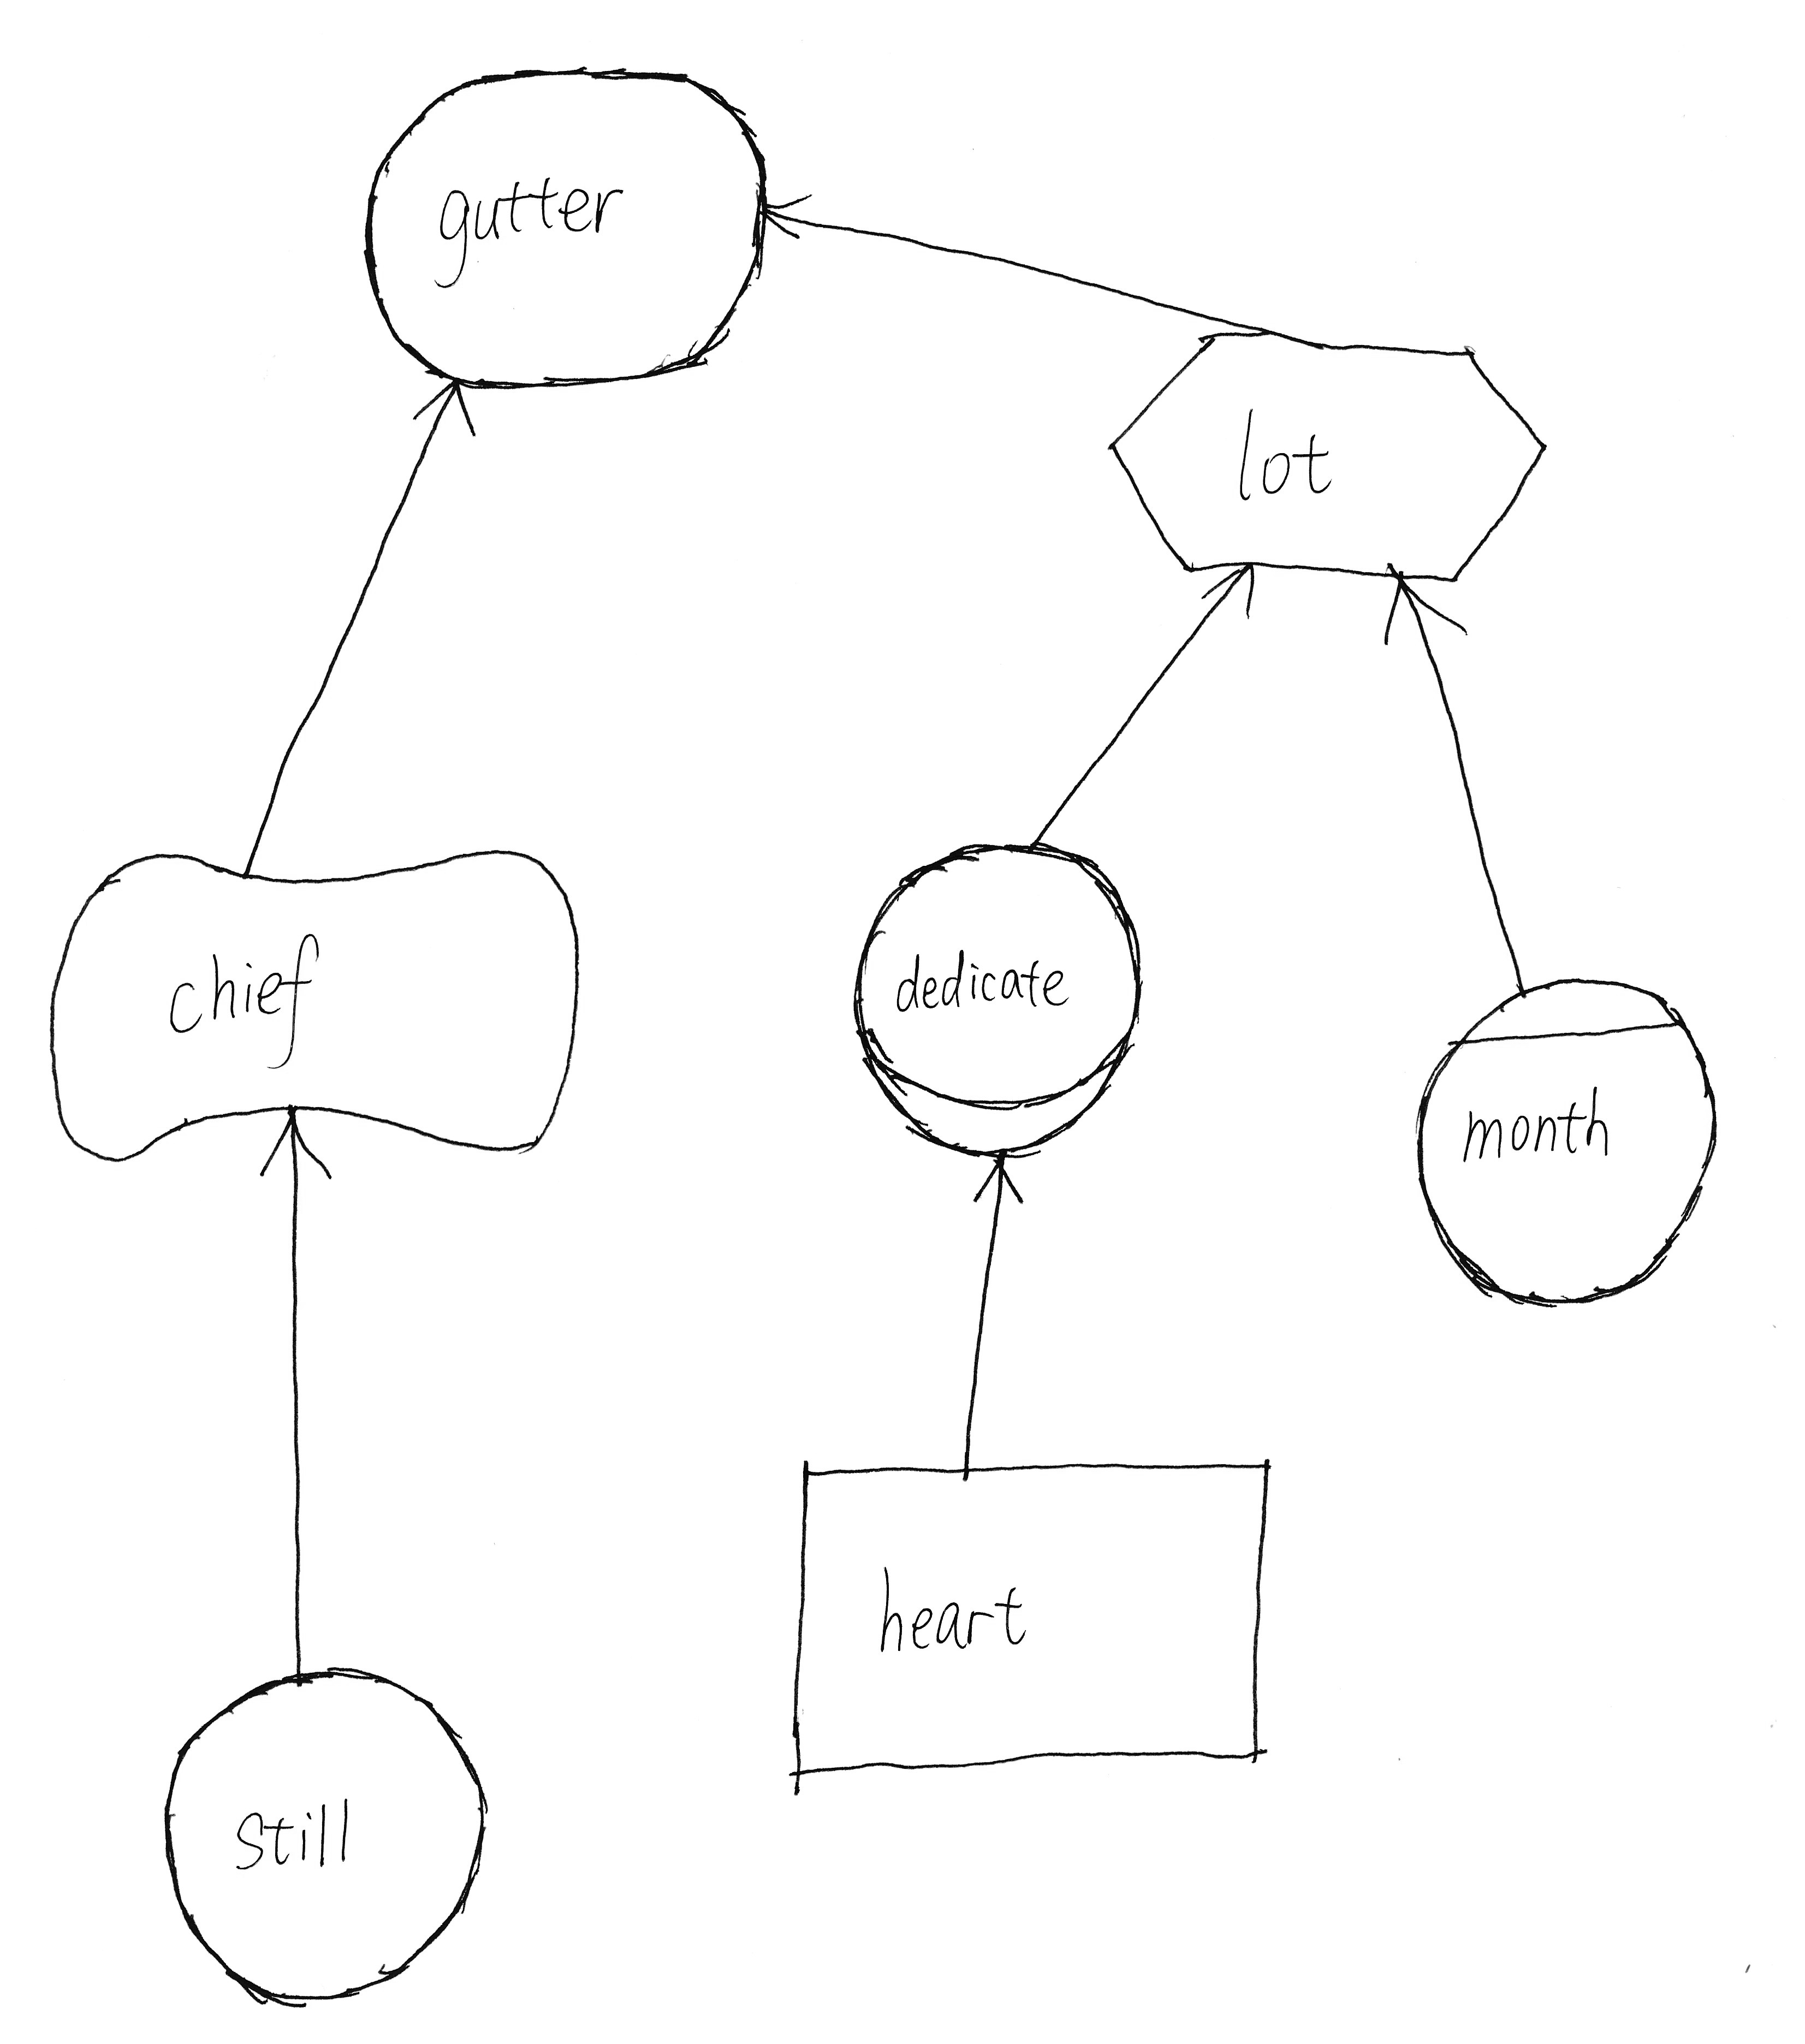actor: (132, 1650, 505, 2018)
agent: (1390, 960, 1742, 1328)
arrow: (1361, 551, 1483, 662), (732, 146, 836, 267), (951, 1127, 1051, 1232), (1185, 544, 1289, 640), (240, 1096, 348, 1188), (406, 364, 484, 457)
goal: (336, 49, 781, 408)
quality: (21, 829, 608, 1181)
resource: (761, 1438, 1308, 1804)
role: (828, 814, 1167, 1183)
task: (1085, 312, 1579, 610)
